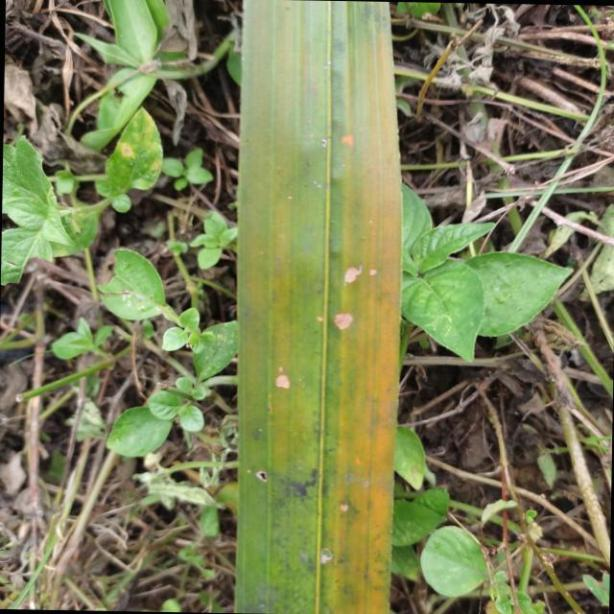Megnesium: (238, 0, 400, 614)
